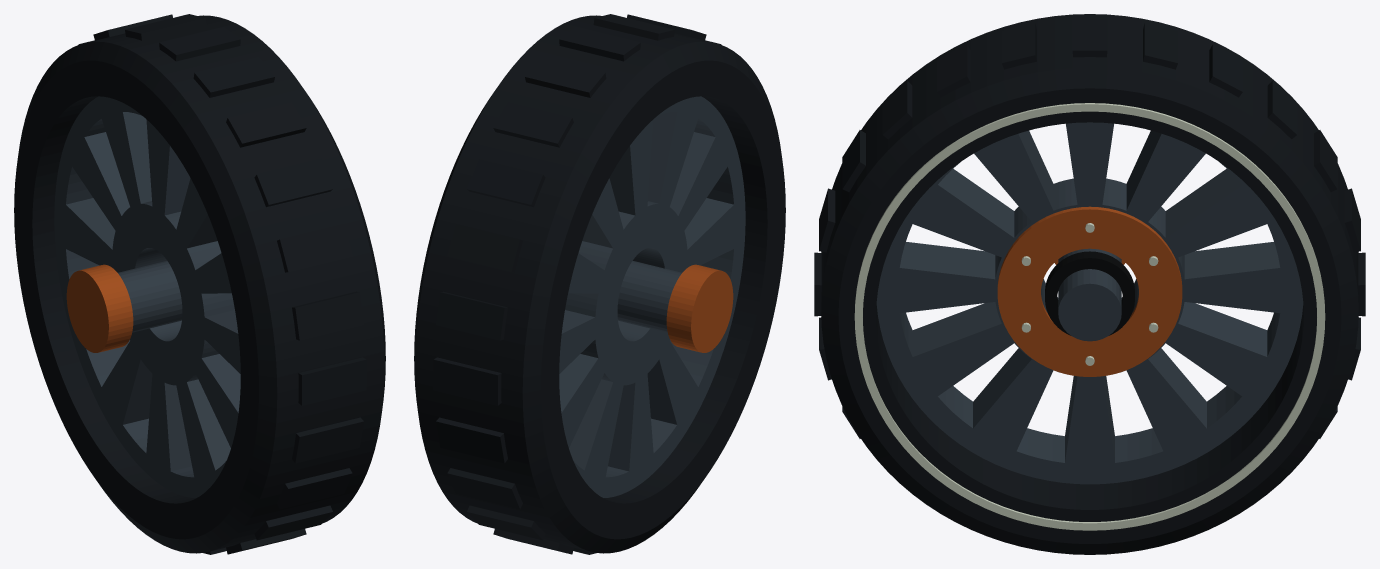
The picture shows the model from 3 angles, left to right: view 1: azimuth 30°, elevation 25°; view 2: azimuth 150°, elevation 25°; view 3: azimuth 270°, elevation 25°; orthographic projection. The views are drawn at different scales.
Visible parts, largest first — view 1: Rolling_hoop_machined_chamfers, Perforated_web_12_open_windows, Rear_mount_flange, Stationary_axle, Replaceable_traction_tooth_06, Replaceable_traction_tooth_04, Replaceable_traction_tooth_05, Replaceable_traction_tooth_07, Replaceable_traction_tooth_03, Replaceable_traction_tooth_08, Replaceable_traction_tooth_02, Replaceable_traction_tooth_09 (+5 smaller); view 2: Rolling_hoop_machined_chamfers, Perforated_web_12_open_windows, Rear_mount_flange, Stationary_axle, Replaceable_traction_tooth_20, Replaceable_traction_tooth_22, Replaceable_traction_tooth_21, Replaceable_traction_tooth_19, Replaceable_traction_tooth_23, Replaceable_traction_tooth_18, Replaceable_traction_tooth_24, Replaceable_traction_tooth_17 (+5 smaller); view 3: Rolling_hoop_machined_chamfers, Perforated_web_12_open_windows, Hub_forged_annulus, Front_machined_rim_inlay, Stationary_axle, Stationary_dust_seal, Replaceable_traction_tooth_01, Replaceable_traction_tooth_02, Replaceable_traction_tooth_24, Replaceable_traction_tooth_03, Replaceable_traction_tooth_23, Replaceable_traction_tooth_04 (+5 smaller).
Part boxes in pixels (<box>): Rolling_hoop_machined_chamfers: <box>14,15,385,553</box>; Perforated_web_12_open_windows: <box>54,96,240,497</box>; Rear_mount_flange: <box>66,264,133,352</box>; Stationary_axle: <box>118,261,182,332</box>; Replaceable_traction_tooth_06: <box>292,291,363,340</box>; Replaceable_traction_tooth_04: <box>254,159,332,207</box>; Replaceable_traction_tooth_05: <box>277,224,352,272</box>; Replaceable_traction_tooth_07: <box>298,357,366,405</box>; Replaceable_traction_tooth_03: <box>226,102,306,147</box>; Replaceable_traction_tooth_08: <box>292,417,363,463</box>; Replaceable_traction_tooth_02: <box>193,57,274,97</box>; Replaceable_traction_tooth_09: <box>277,468,352,509</box>; Rolling_hoop_machined_chamfers: <box>414,15,785,553</box>; Perforated_web_12_open_windows: <box>559,96,745,497</box>; Rear_mount_flange: <box>666,264,733,352</box>; Stationary_axle: <box>617,261,681,332</box>; Replaceable_traction_tooth_20: <box>436,291,507,340</box>; Replaceable_traction_tooth_22: <box>467,159,545,207</box>; Replaceable_traction_tooth_21: <box>447,224,522,272</box>; Replaceable_traction_tooth_19: <box>433,357,501,405</box>; Replaceable_traction_tooth_23: <box>493,102,573,147</box>; Replaceable_traction_tooth_18: <box>436,417,507,463</box>; Replaceable_traction_tooth_24: <box>525,57,606,97</box>; Replaceable_traction_tooth_17: <box>447,468,522,509</box>; Rolling_hoop_machined_chamfers: <box>821,14,1358,554</box>; Perforated_web_12_open_windows: <box>876,122,1303,484</box>; Hub_forged_annulus: <box>997,206,1182,376</box>; Front_machined_rim_inlay: <box>854,103,1325,530</box>; Stationary_axle: <box>1058,248,1121,341</box>; Stationary_dust_seal: <box>1045,251,1134,335</box>; Replaceable_traction_tooth_01: <box>1072,18,1107,57</box>; Replaceable_traction_tooth_02: <box>1001,23,1036,69</box>; Replaceable_traction_tooth_24: <box>1143,23,1178,69</box>; Replaceable_traction_tooth_03: <box>937,44,970,97</box>; Replaceable_traction_tooth_23: <box>1209,44,1242,97</box>; Replaceable_traction_tooth_04: <box>882,80,912,139</box>.
Size of the model in its own units: 0.365 by 0.9541 by 0.9541.
